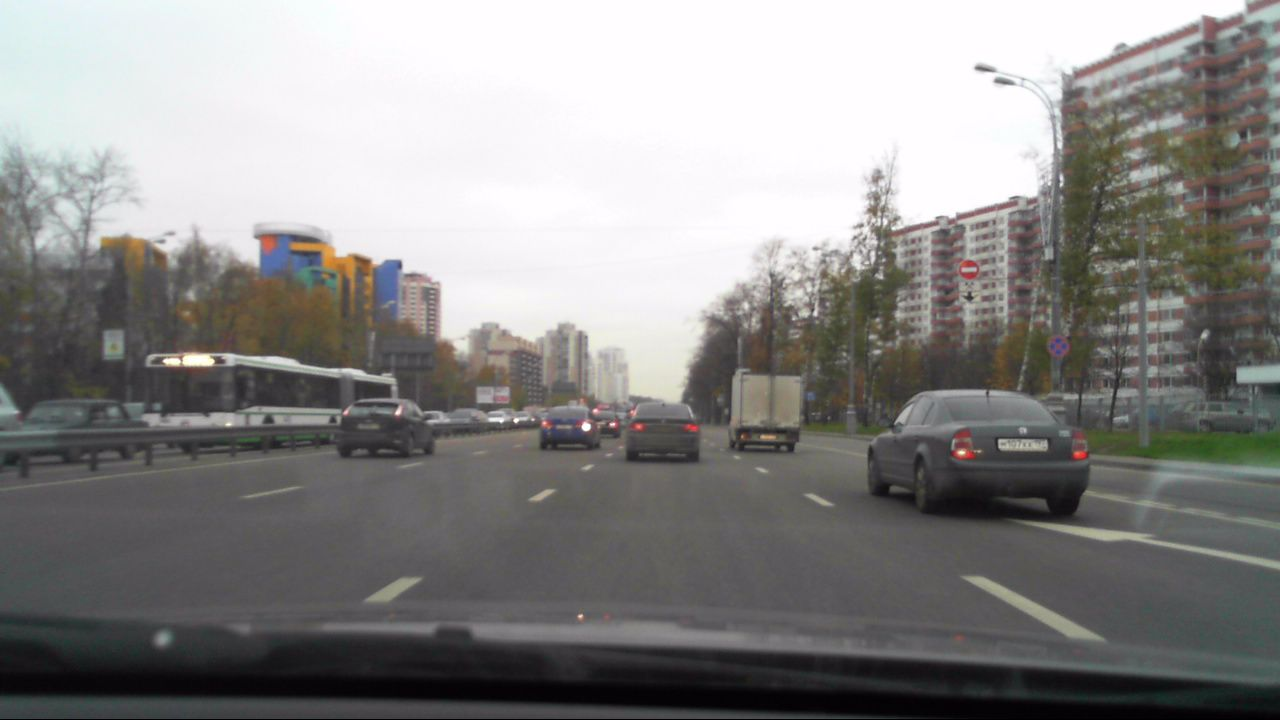No Parking: (1044, 334, 1068, 357)
